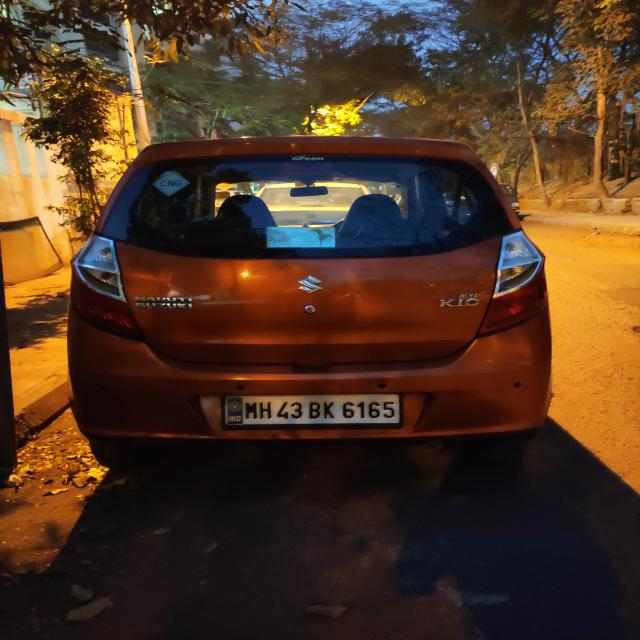Number-Plate: (228, 393, 398, 426)
